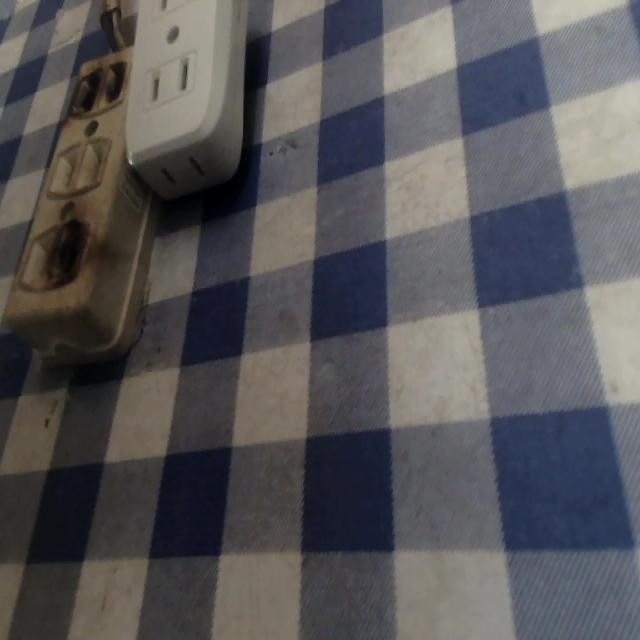-: (73, 62, 130, 114), (54, 219, 92, 288)
